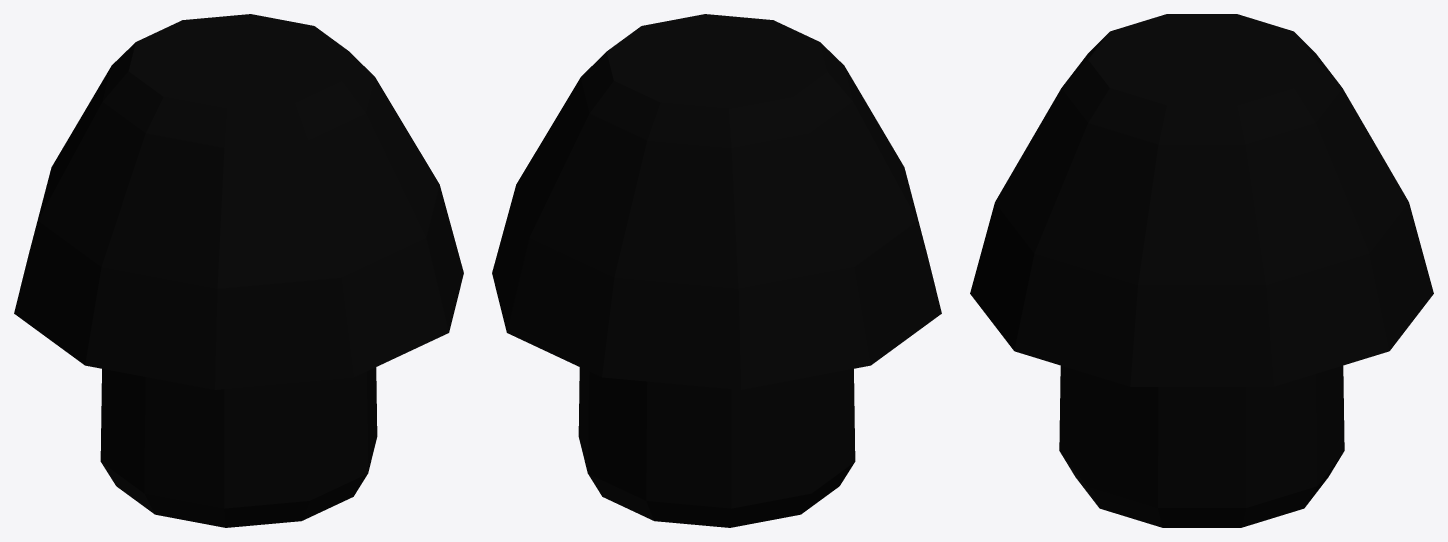
The model's file is first.glb.
The picture shows the model from 3 angles, left to right: view 1: azimuth 30°, elevation 25°; view 2: azimuth 150°, elevation 25°; view 3: azimuth 270°, elevation 25°; orthographic projection.
Parts seen in each view (by area): view 1: Cylinder; view 2: Cylinder; view 3: Cylinder.
Boxes of the visible parts, x1=… form: Cylinder: x1=14, y1=14, x2=463, y2=527; Cylinder: x1=492, y1=14, x2=941, y2=527; Cylinder: x1=970, y1=14, x2=1433, y2=527.
Bounding box in the file's own units: 4.71 × 4.91 × 4.95.
Materials: 1 (1 with a texture image).
